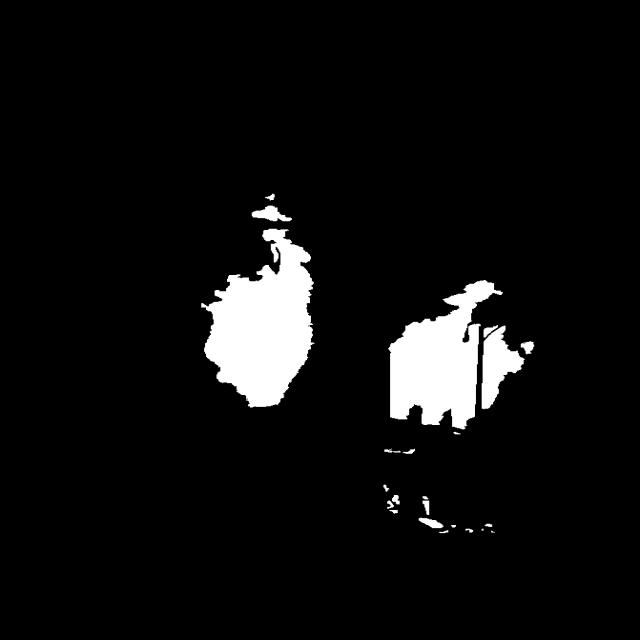fire: (188, 195, 616, 528)
